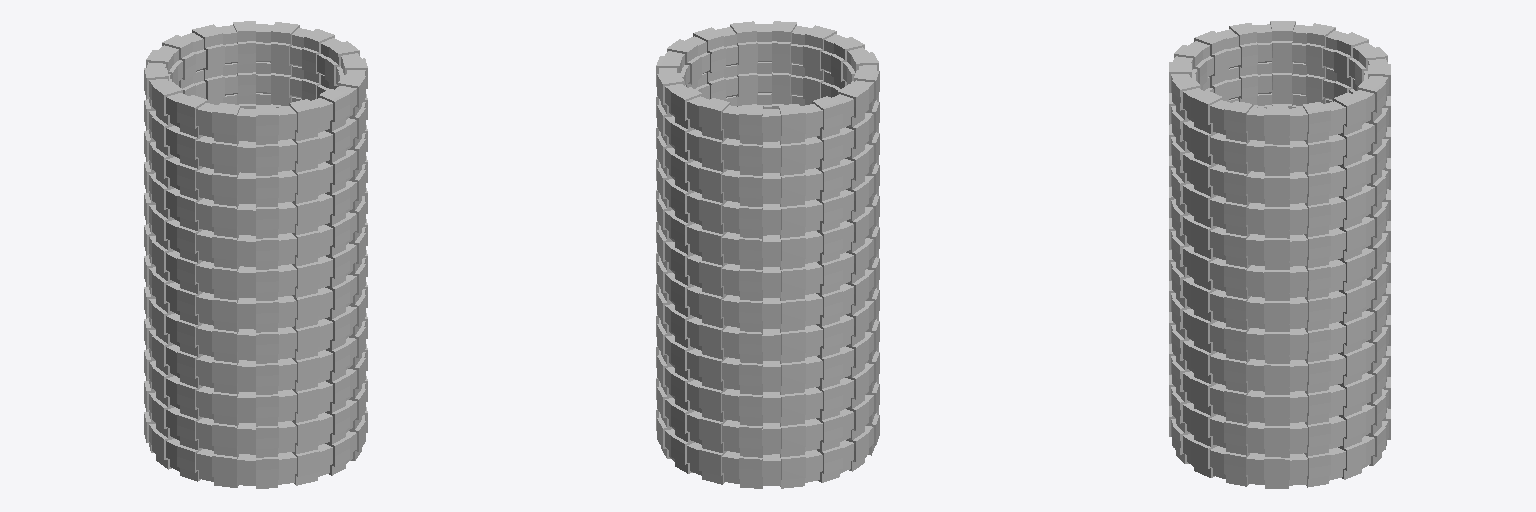
Rendered from Kule.obj.
The picture shows the model from 3 angles: view 1: azimuth 30°, elevation 25°; view 2: azimuth 150°, elevation 25°; view 3: azimuth 270°, elevation 25°; orthographic projection.
Size of the model in its own units: 14.6 by 27.14 by 14.6.